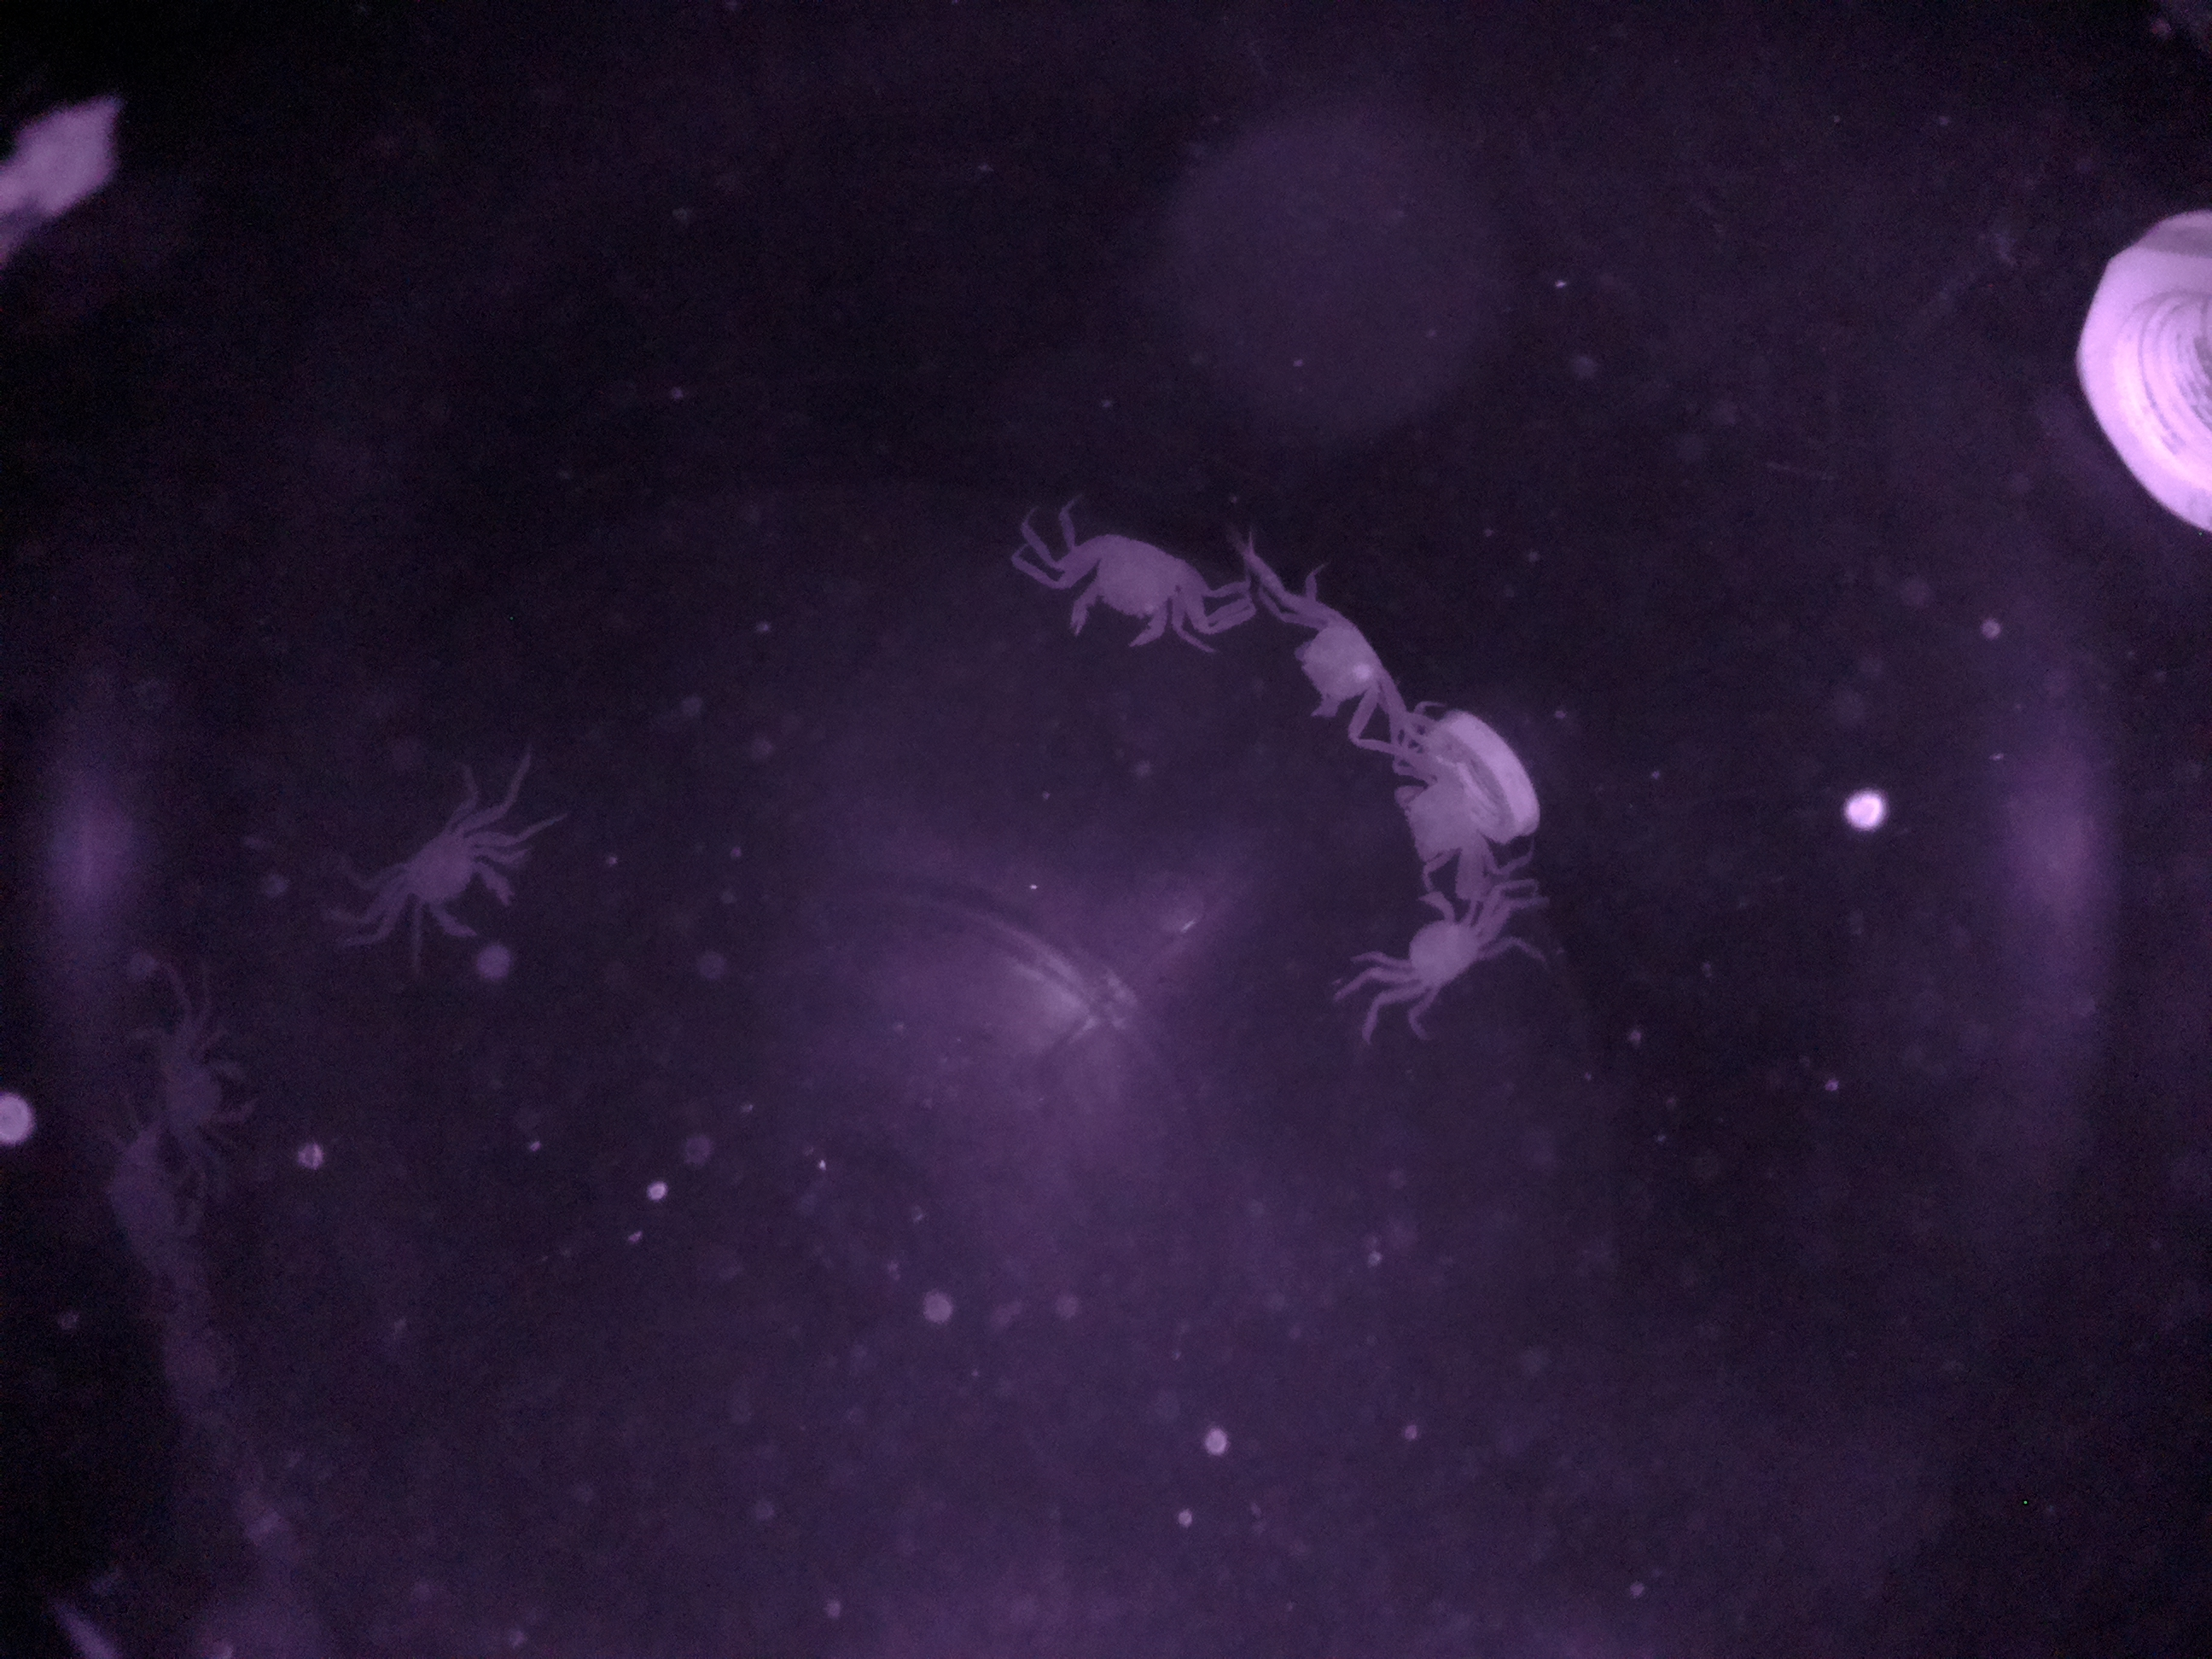Crab: (343, 775, 583, 967), (1338, 847, 1550, 1047), (108, 983, 296, 1185), (1021, 495, 1233, 673), (1254, 580, 1430, 739)
